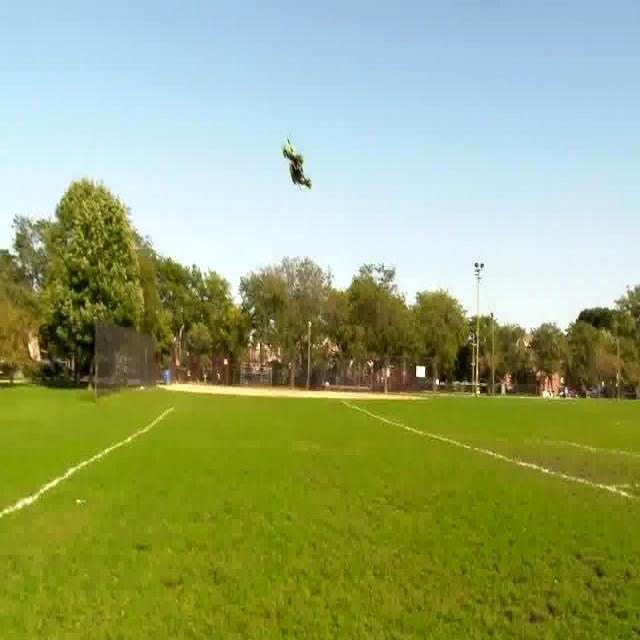drone: (276, 126, 322, 196)
